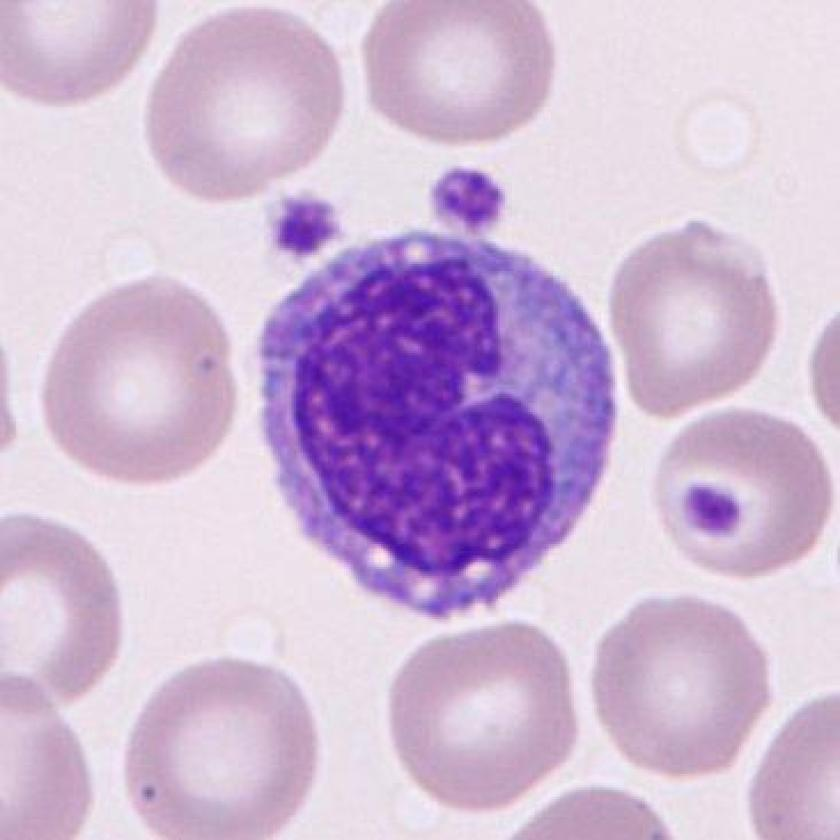monocyte: (233, 213, 639, 634)
